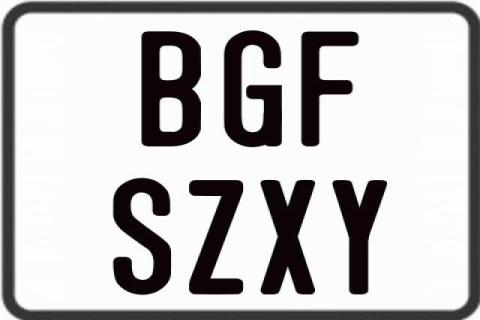B: (140, 31, 201, 150)
F: (298, 32, 362, 152)
G: (223, 29, 284, 149)
S: (110, 176, 174, 295)
X: (258, 178, 312, 294)
Y: (331, 179, 387, 297)
Z: (186, 180, 244, 294)
